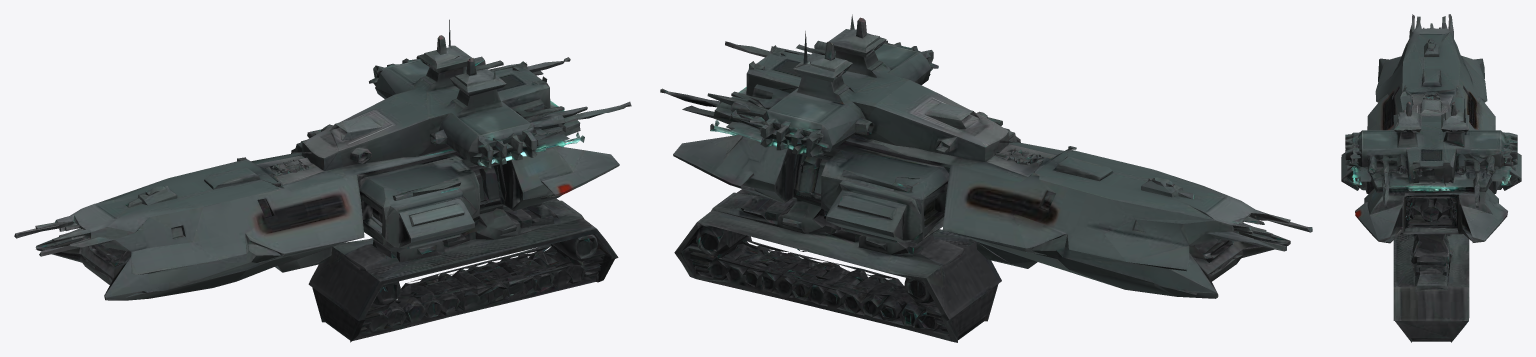
The model's file is enemy-ferrum-capital.glb.
3 views of the same model, side by side, from view 1: azimuth 30°, elevation 25°; view 2: azimuth 150°, elevation 25°; view 3: azimuth 270°, elevation 25° (orthographic). The views are drawn at different scales.
Bounding box in the file's own units: 1.9 × 0.8536 × 0.6914.
1 material, 1 textured.
